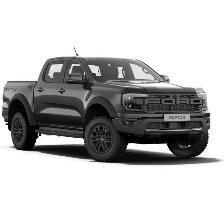NON-EV: (3, 47, 211, 163)
